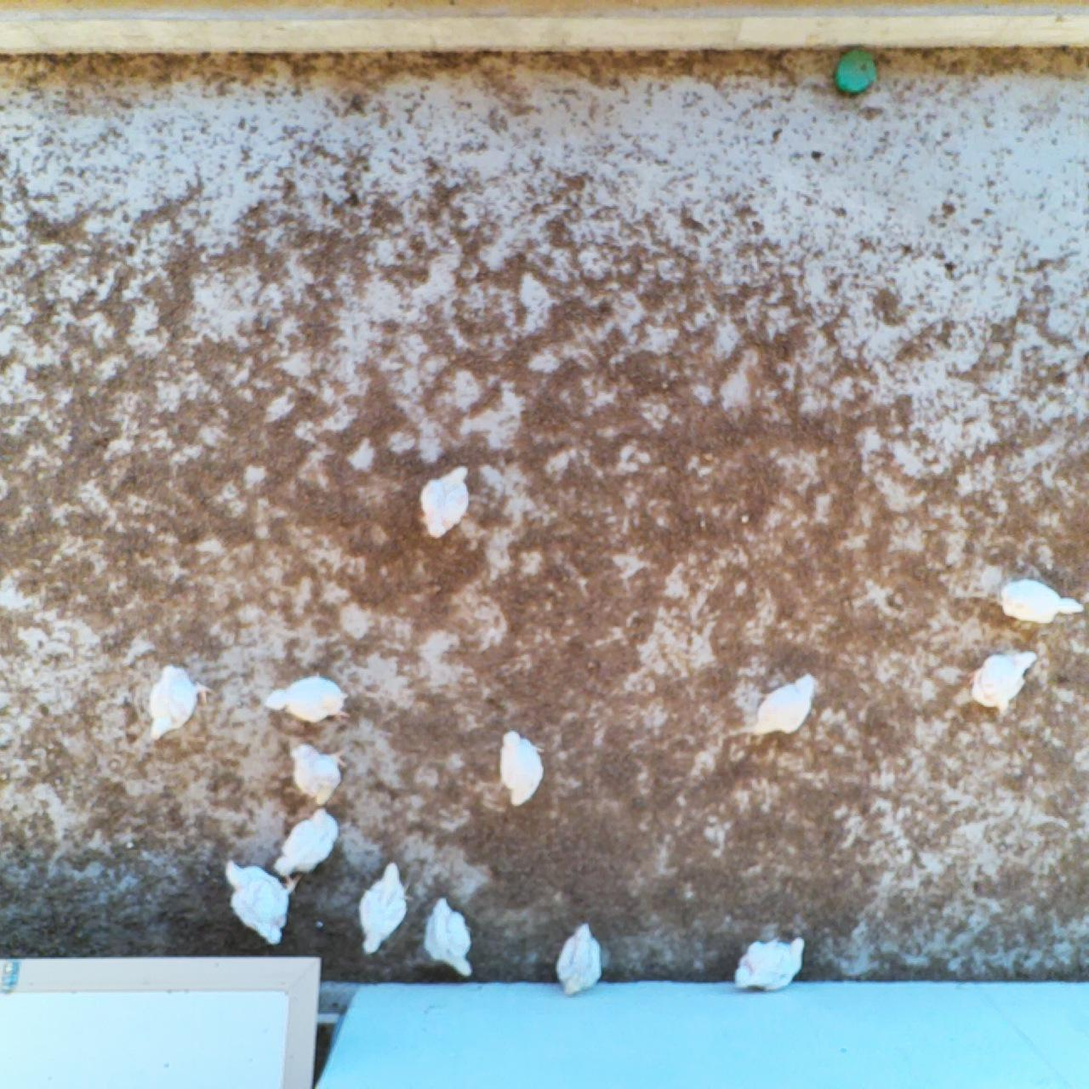chicken: (223, 857, 302, 946), (356, 853, 416, 956), (144, 662, 217, 744), (964, 647, 1039, 722), (989, 574, 1085, 629), (265, 667, 353, 727), (746, 670, 821, 740), (271, 806, 340, 879), (729, 932, 811, 993), (422, 892, 476, 978), (417, 464, 475, 540), (287, 738, 348, 810), (552, 920, 606, 999), (496, 728, 547, 810)
